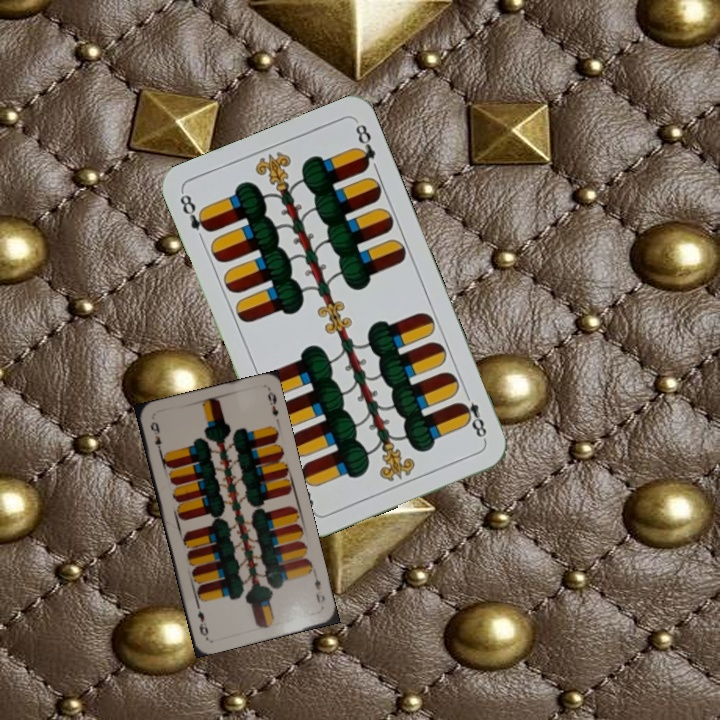E8: (455, 387, 489, 444), (176, 189, 214, 235)
E9: (146, 417, 165, 456), (310, 570, 328, 607)
